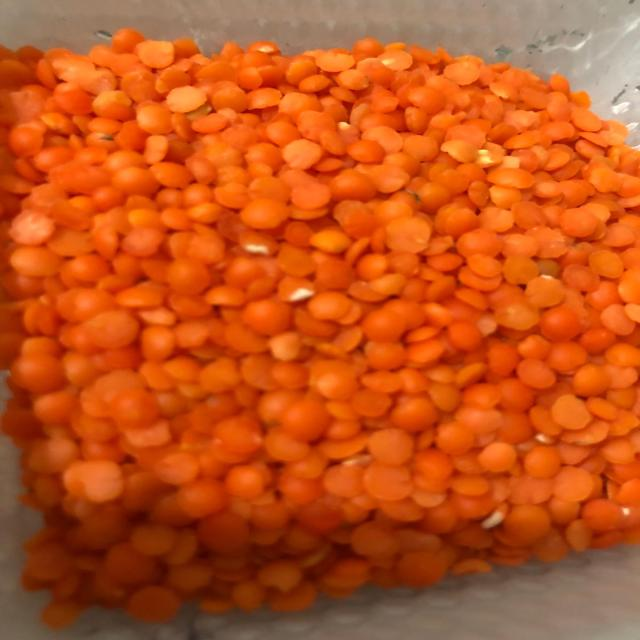red lentils: (0, 29, 640, 640)
